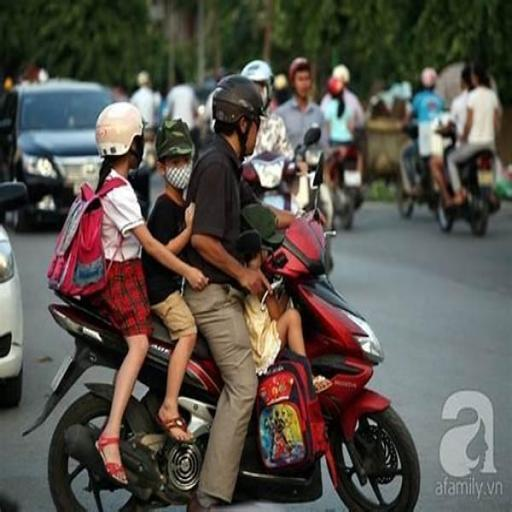helmet: (205, 82, 258, 164)
triple riding: (50, 76, 434, 512)
